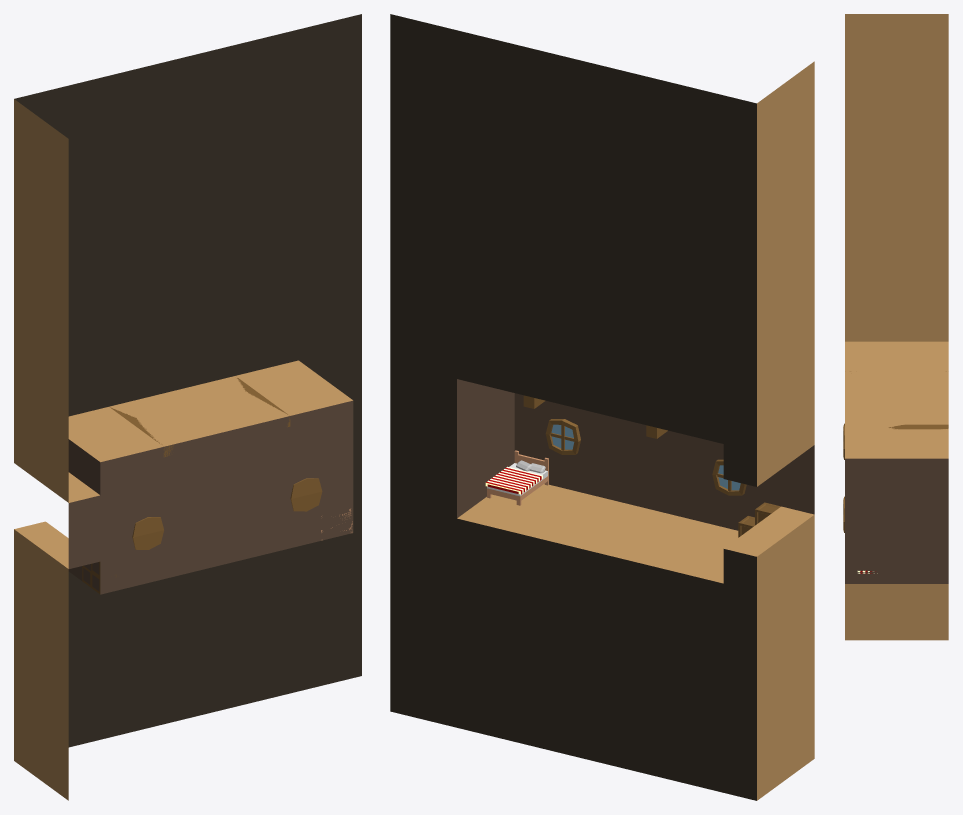
File: StartRaum.fbx
3 views of the same model, side by side, from view 1: azimuth 30°, elevation 25°; view 2: azimuth 150°, elevation 25°; view 3: azimuth 270°, elevation 25° (orthographic). The views are drawn at different scales.
Visible parts, largest first — view 1: Plane.003; view 2: Plane.003; view 3: Plane.003.
Part boxes in pixels (x1,y1,x2,y2): Plane.003: [14, 14, 361, 800]; Plane.003: [390, 14, 814, 800]; Plane.003: [843, 14, 948, 640].
Bounding box in the file's own units: 2200 × 4000 × 608.
